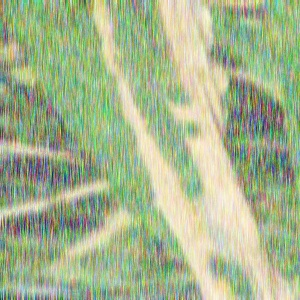Leaf_Blast: (62, 1, 229, 258)
